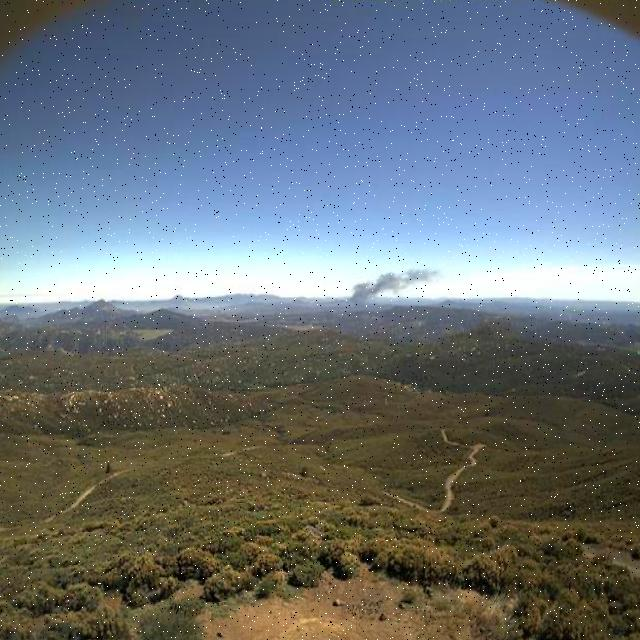smoke: (350, 253, 446, 306)
